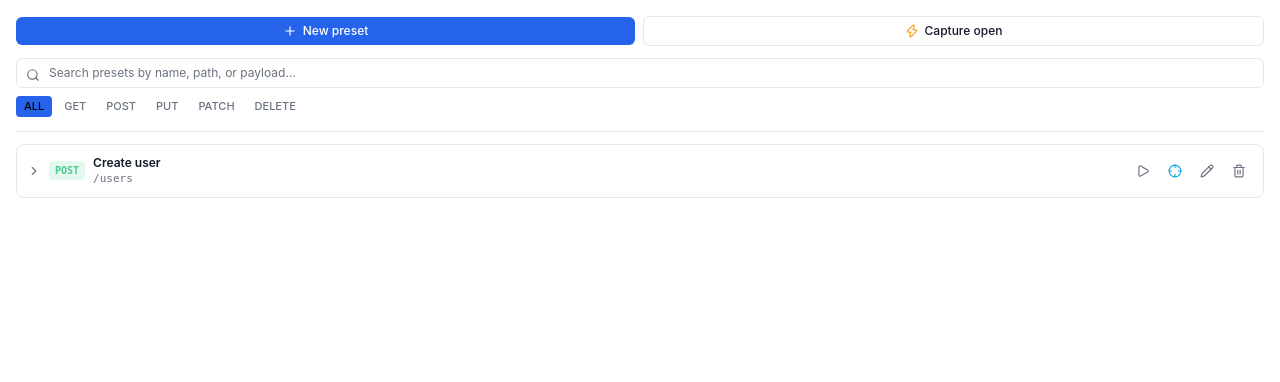
Test: RequestsPanel › expands a preset card on click to show formatted JSON body and copy button
This screenshot has width=1280, height=382.
Click the text "Create user". click: x=127, y=162
box: [93,154,161,170]
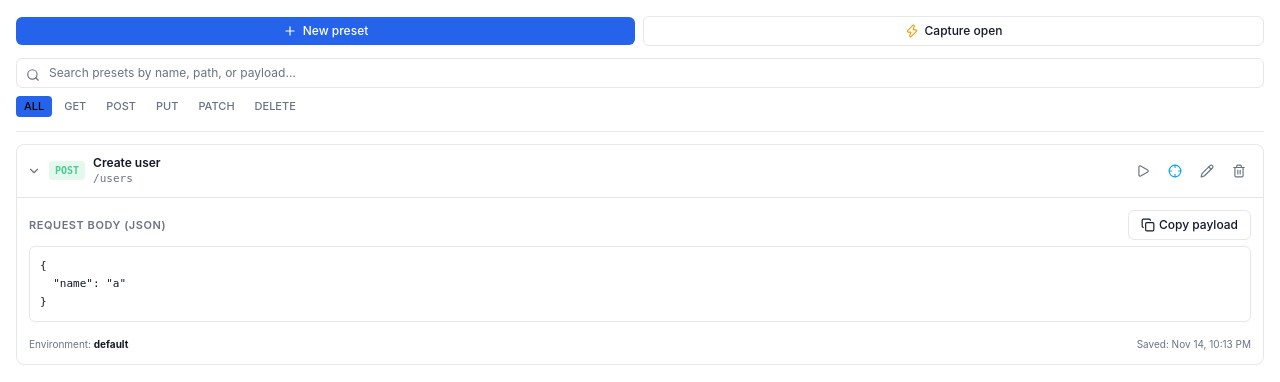
Expected: the text "Request Body (JSON)" is shown, [29,217,166,233]
Expected: the text "{ \"name\": \"a\" }" is shown, [40,259,126,308]
Expected: the button "Copy payload" is shown, [1128,210,1251,240]
